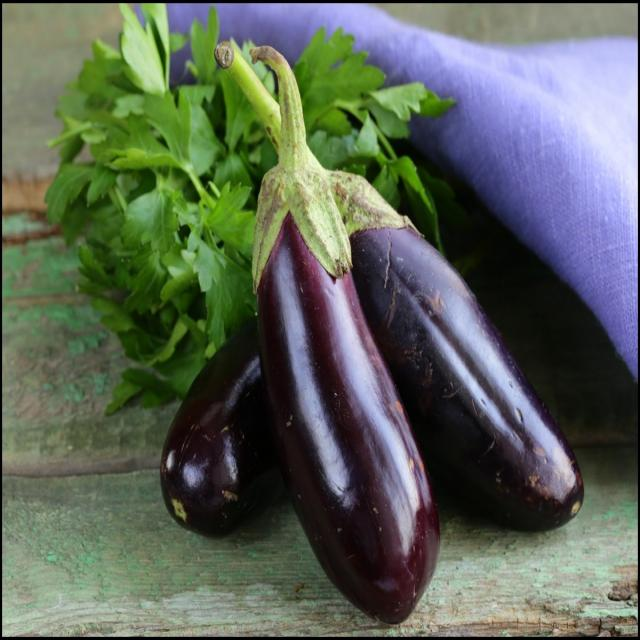eggplant: (253, 165, 438, 618), (422, 245, 585, 540), (157, 327, 255, 542)
